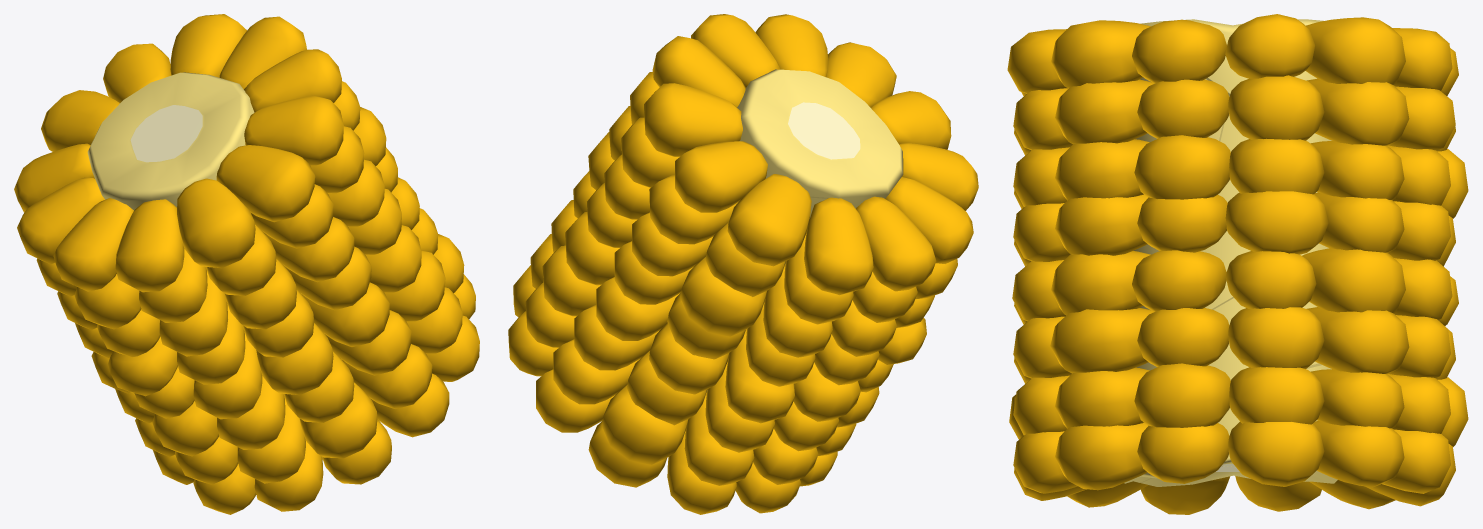
File: level_171.fbx
3 views of the same model, side by side, from view 1: azimuth 30°, elevation 25°; view 2: azimuth 150°, elevation 25°; view 3: azimuth 270°, elevation 25° (orthographic). The views are drawn at different scales.
Visible parts, largest first — view 1: Cube_L2_9, Cube_L1_32, Cube_L1_14, Cube_L1_4, Cube_L1_47, Cube_L1, Cube_L1_1, Cube_L1_58, Cube_L1_59, Cube_L1_51, Cube_L1_54, Cube_L1_15 (+49 smaller); view 2: Cube_L2_9, Cube_L1_15, Cube_L1_5, Cube_L1_51, Cube_L1_33, Cube_L1_1, Cube_L1, Cube_L1_27, Cube_L1_56, Cube_L1_59, Cube_L1_58, Cube_L1_4 (+50 smaller); view 3: Cube_L1_51, Cube_L1_79, Cube_L1_77, Cube_L1_72, Cube_L1_92, Cube_L1_67, Cube_L1_82, Cube_L1_95, Cube_L1_57, Cube_L1_83, Cube_L1_89, Cube_L1_47 (+48 smaller).
Part boxes in pixels (x1,y1,x2,y2): Cube_L2_9: [87, 72, 254, 210]; Cube_L1_32: [216, 145, 315, 222]; Cube_L1_14: [177, 178, 255, 268]; Cube_L1_4: [115, 199, 184, 292]; Cube_L1_47: [244, 95, 343, 165]; Cube_L1: [53, 198, 133, 291]; Cube_L1_1: [17, 177, 104, 264]; Cube_L1_58: [244, 49, 341, 112]; Cube_L1_59: [219, 16, 306, 89]; Cube_L1_51: [170, 14, 246, 77]; Cube_L1_54: [299, 382, 377, 458]; Cube_L1_15: [41, 90, 119, 151]; Cube_L2_9: [737, 69, 903, 208]; Cube_L1_15: [727, 174, 811, 266]; Cube_L1_5: [804, 197, 873, 295]; Cube_L1_51: [644, 83, 742, 156]; Cube_L1_33: [675, 141, 767, 212]; Cube_L1_1: [856, 196, 936, 291]; Cube_L1: [885, 177, 973, 263]; Cube_L1_27: [680, 257, 766, 336]; Cube_L1_56: [601, 385, 688, 464]; Cube_L1_59: [652, 36, 745, 106]; Cube_L1_58: [691, 14, 780, 87]; Cube_L1_4: [899, 143, 978, 210]; Cube_L1_51: [1305, 17, 1405, 84]; Cube_L1_79: [1225, 191, 1328, 254]; Cube_L1_77: [1302, 248, 1405, 313]; Cube_L1_72: [1134, 135, 1230, 199]; Cube_L1_92: [1134, 363, 1230, 427]; Cube_L1_67: [1228, 75, 1324, 140]; Cube_L1_82: [1050, 308, 1153, 373]; Cube_L1_95: [1228, 422, 1324, 486]; Cube_L1_57: [1306, 78, 1409, 145]; Cube_L1_83: [1307, 307, 1409, 374]; Cube_L1_89: [1228, 307, 1324, 368]; Cube_L1_47: [1051, 20, 1150, 88].
Bounding box in the file's own units: 12.59 × 12.93 × 9.83.
